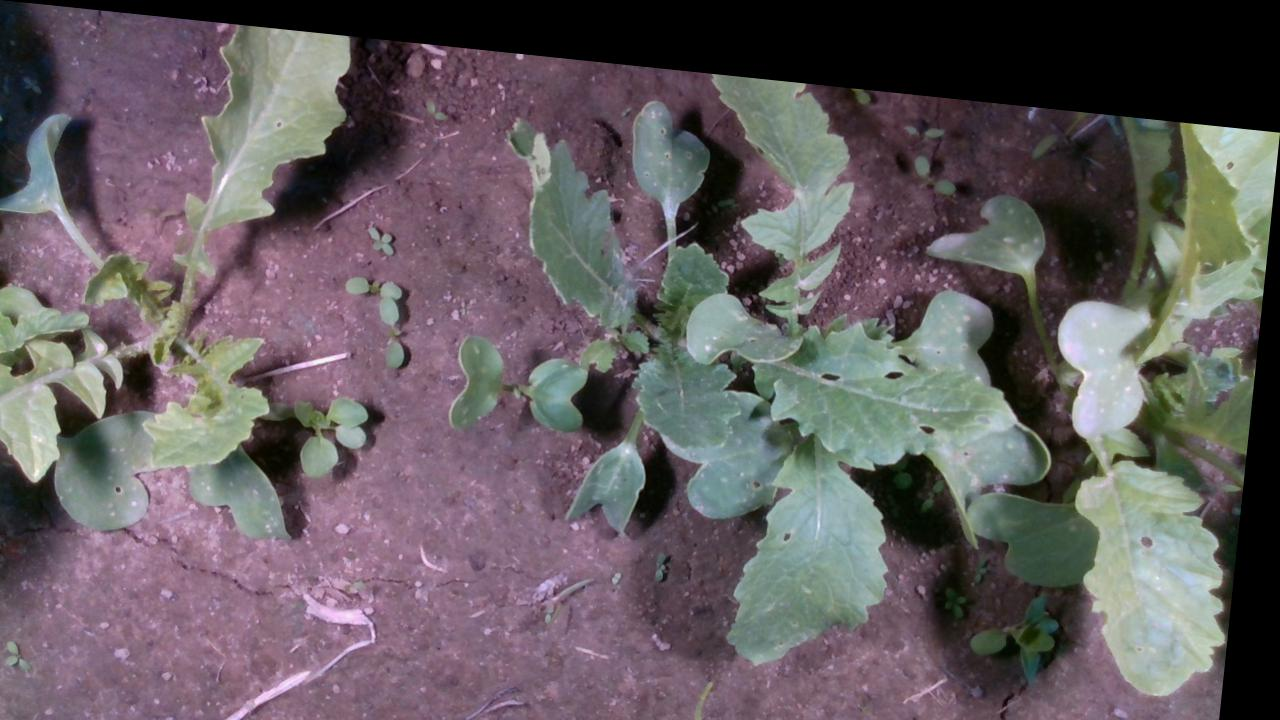weed: (368, 214, 401, 247)
